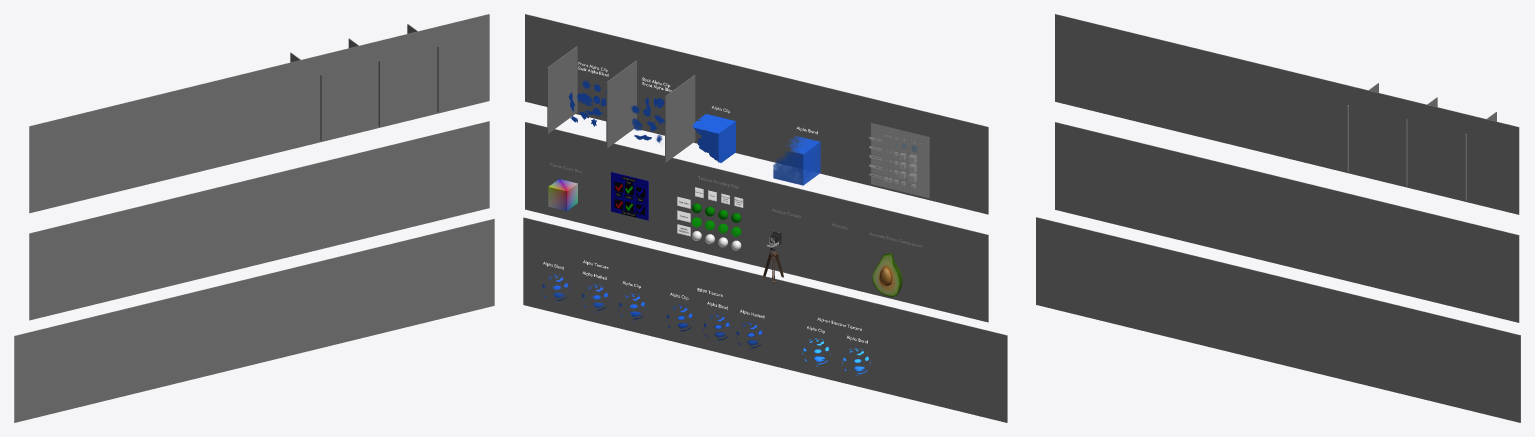
Rendered from testscene2.glb.
3 views of the same model, side by side, from view 1: azimuth 30°, elevation 25°; view 2: azimuth 150°, elevation 25°; view 3: azimuth 330°, elevation 25° (orthographic).
Parts seen in each view (by area): view 1: Cube.005, Cube.031, Cube.001; view 2: Cube.005, Cube.031, Cube.001, MeterGrid.001, Cube.006, Cube.007, Cube.008, Cube.003, Cube.004, VertexColorTest, Avocado.001, Cube.032; view 3: Cube.005, Cube.031, Cube.001.
Part boxes in pixels (x1,y1,x2,y2): Cube.005: (14, 219, 494, 422); Cube.031: (29, 121, 489, 320); Cube.001: (29, 14, 489, 213); Cube.005: (523, 217, 1007, 422); Cube.031: (525, 122, 988, 322); Cube.001: (525, 14, 988, 214); MeterGrid.001: (871, 122, 929, 198); Cube.006: (665, 75, 695, 162); Cube.007: (606, 60, 636, 148); Cube.008: (547, 46, 577, 133); Cube.003: (773, 136, 820, 185); Cube.004: (692, 114, 735, 162); VertexColorTest: (611, 172, 648, 220); Avocado.001: (872, 253, 902, 296); Cube.032: (548, 179, 577, 210); Cube.005: (1036, 217, 1520, 422); Cube.031: (1055, 122, 1519, 322); Cube.001: (1055, 14, 1519, 214).
Bounding box in the file's own units: 25.72 × 14.89 × 2.95.
53 materials, 25 textured.
